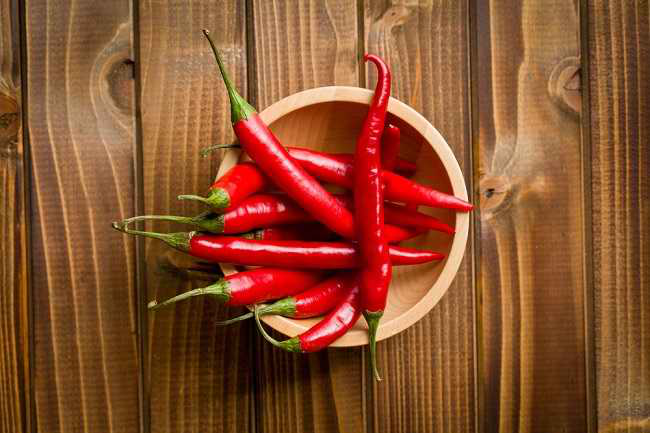Cabai: (177, 92, 470, 362)
